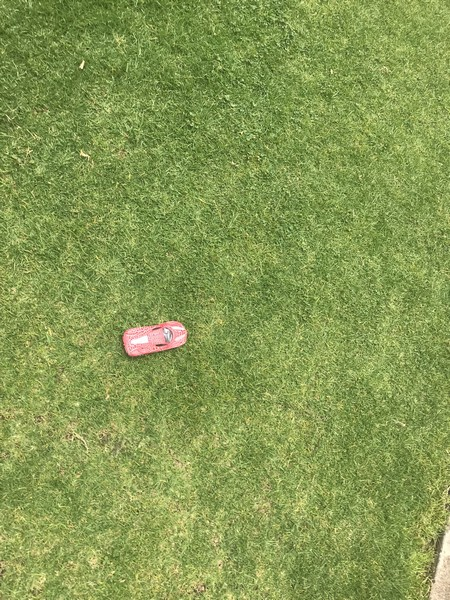RC: (121, 321, 189, 357)
